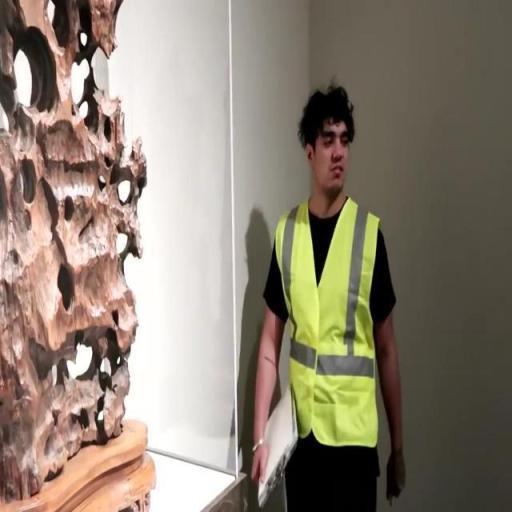Person: (244, 36, 418, 507)
vest: (266, 199, 385, 450)
